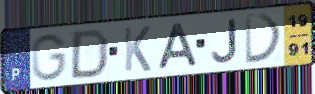A: (156, 21, 200, 72)
D: (68, 27, 111, 81), (243, 12, 285, 66)
G: (30, 32, 69, 83)
J: (209, 17, 239, 65)
K: (122, 24, 153, 74)
